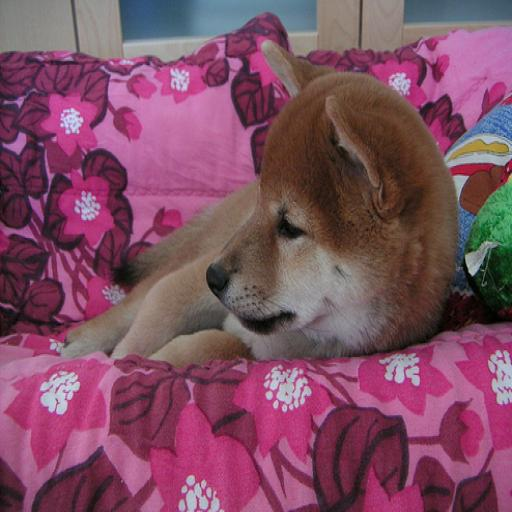dog_face: (208, 61, 402, 344)
